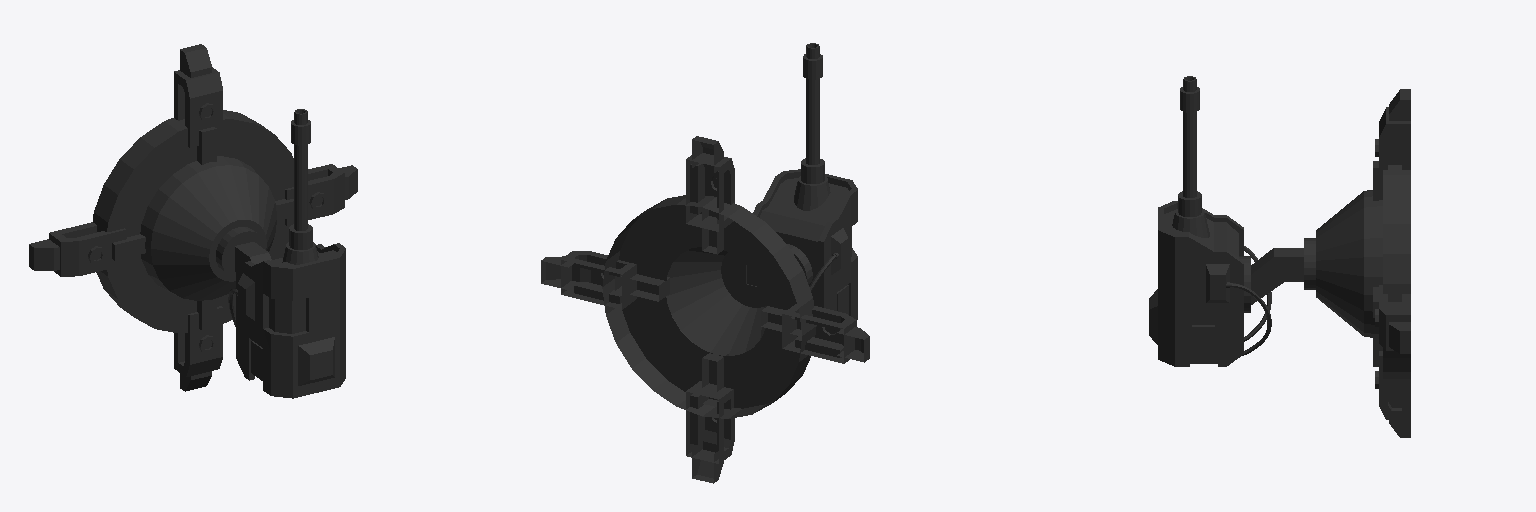
File: turret.obj
3 views of the same model, side by side, from view 1: azimuth 30°, elevation 25°; view 2: azimuth 150°, elevation 25°; view 3: azimuth 270°, elevation 25° (orthographic).
Visible parts, largest first — view 1: Legs_low_Куб.001, Top_Base_low_Цилиндр.003, Cover_low_Куб.002, Barel_low_Куб.009, Decor_002_low_Куб.016, Body_low_Куб.003, Gear_Bottom_low_Цилиндр.005, Decor_000_low_Куб.013, Neck_low_Цилиндр.004; view 2: Legs_low_Куб.001, Top_Base_low_Цилиндр.003, Cover_low_Куб.002, Body_low_Куб.003, Barel_low_Куб.009, Decor_000_low_Куб.013; view 3: Cover_low_Куб.002, Top_Base_low_Цилиндр.003, Legs_low_Куб.001, Barel_low_Куб.009, Neck_low_Цилиндр.004, Body_low_Куб.003, Decor_000_low_Куб.013, Decor_001_low_Куб.017, Cable_low_КриваяБезье.004, Gear_Bottom_low_Цилиндр.005.
Boxes of the visible parts, x1=… form: Legs_low_Куб.001: x1=29, y1=44, x2=357, y2=391; Top_Base_low_Цилиндр.003: x1=140, y1=156, x2=276, y2=300; Cover_low_Куб.002: x1=236, y1=243, x2=345, y2=398; Barel_low_Куб.009: x1=282, y1=109, x2=318, y2=264; Decor_002_low_Куб.016: x1=298, y1=337, x2=334, y2=385; Body_low_Куб.003: x1=255, y1=250, x2=336, y2=333; Gear_Bottom_low_Цилиндр.005: x1=216, y1=227, x2=265, y2=278; Decor_000_low_Куб.013: x1=238, y1=273, x2=254, y2=320; Neck_low_Цилиндр.004: x1=235, y1=242, x2=271, y2=271; Legs_low_Куб.001: x1=541, y1=136, x2=869, y2=483; Top_Base_low_Цилиндр.003: x1=666, y1=247, x2=766, y2=355; Cover_low_Куб.002: x1=753, y1=169, x2=857, y2=319; Body_low_Куб.003: x1=760, y1=178, x2=851, y2=305; Barel_low_Куб.009: x1=794, y1=43, x2=830, y2=210; Decor_000_low_Куб.013: x1=831, y1=228, x2=847, y2=274; Cover_low_Куб.002: x1=1158, y1=201, x2=1243, y2=366; Top_Base_low_Цилиндр.003: x1=1316, y1=190, x2=1382, y2=338; Legs_low_Куб.001: x1=1373, y1=89, x2=1410, y2=437; Barel_low_Куб.009: x1=1172, y1=76, x2=1209, y2=237; Neck_low_Цилиндр.004: x1=1251, y1=248, x2=1303, y2=304; Body_low_Куб.003: x1=1164, y1=209, x2=1238, y2=357; Decor_000_low_Куб.013: x1=1206, y1=264, x2=1229, y2=302; Decor_001_low_Куб.017: x1=1192, y1=325, x2=1214, y2=358; Cable_low_КриваяБезье.004: x1=1232, y1=246, x2=1271, y2=355; Gear_Bottom_low_Цилиндр.005: x1=1304, y1=238, x2=1315, y2=289.
Size of the model in its own units: 3.24 by 3.39 by 2.28.